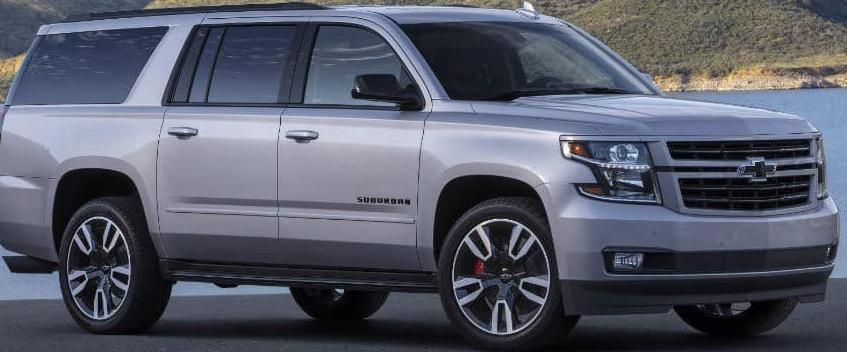SUV: (1, 6, 841, 350)
